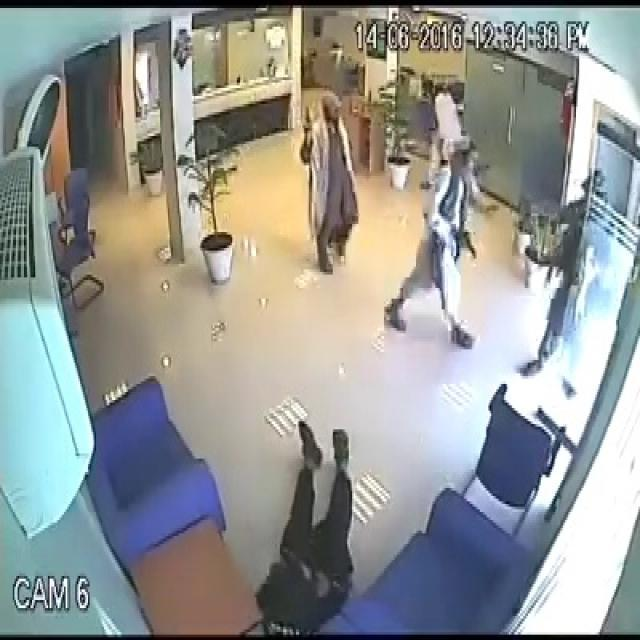weapon: (458, 222, 478, 262), (300, 102, 310, 125)
